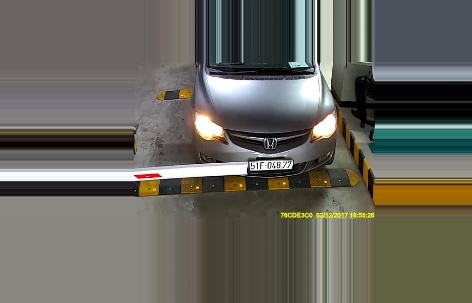plate: (247, 157, 295, 171)
